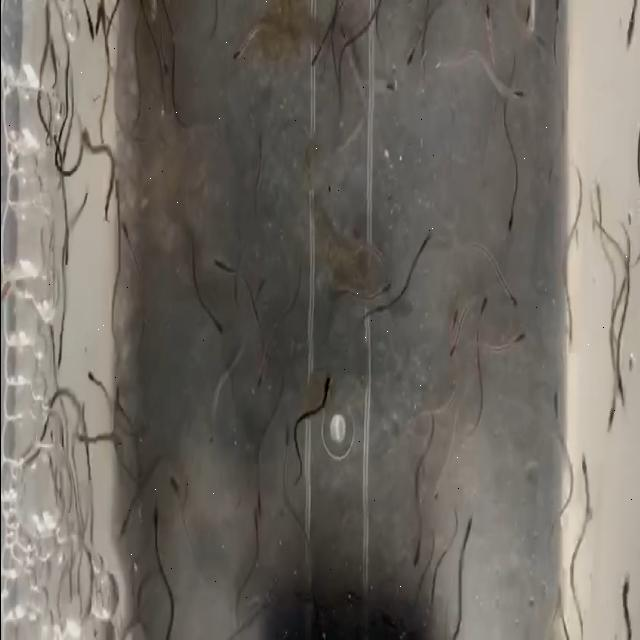active_glass_eel: (623, 0, 640, 66), (604, 372, 622, 429), (549, 388, 567, 442), (614, 354, 628, 422), (80, 0, 94, 68), (252, 356, 274, 398), (116, 488, 132, 544), (227, 34, 251, 70), (576, 447, 596, 490), (507, 72, 529, 108), (564, 313, 581, 358), (164, 476, 184, 514), (590, 165, 604, 219), (276, 426, 294, 467), (41, 0, 59, 41), (615, 568, 631, 614), (320, 372, 334, 424), (416, 232, 436, 268), (84, 366, 104, 400), (154, 41, 170, 82), (308, 40, 326, 76), (118, 216, 134, 256), (248, 498, 260, 550), (252, 472, 264, 524), (503, 203, 516, 250), (523, 0, 542, 32), (151, 504, 163, 554), (401, 42, 421, 70), (212, 256, 232, 284), (0, 275, 15, 312), (209, 306, 225, 340), (476, 290, 491, 326), (504, 326, 526, 350), (449, 294, 460, 342), (502, 288, 522, 314), (368, 282, 394, 302), (48, 29, 58, 80), (56, 335, 68, 375), (92, 0, 101, 48), (446, 339, 461, 367), (379, 77, 400, 97), (464, 505, 474, 546), (482, 0, 492, 40), (431, 488, 444, 512), (408, 544, 421, 562)
